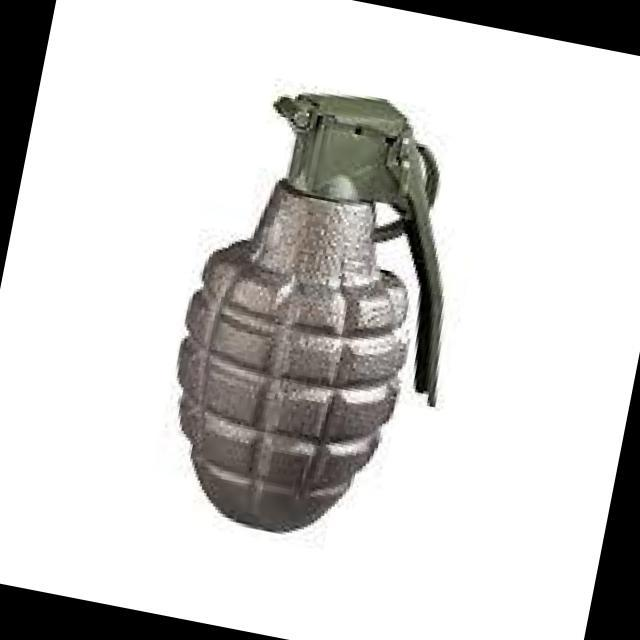grenade: (132, 65, 496, 562)
